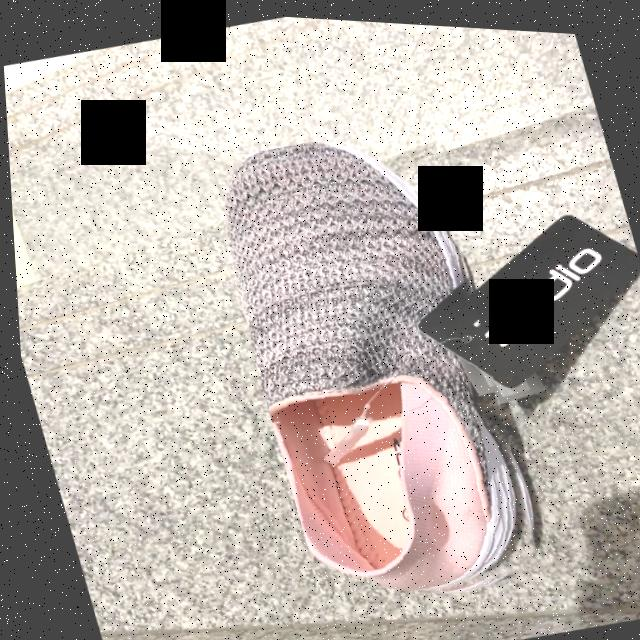shoe: (222, 138, 524, 590)
